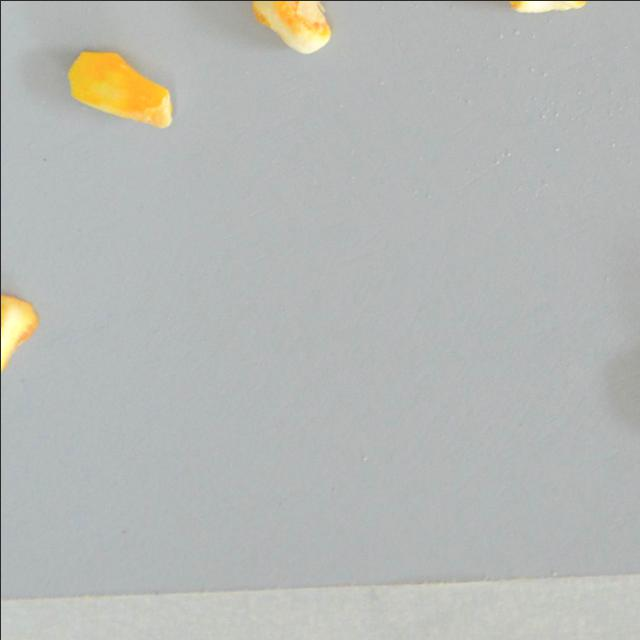estandar: (0, 290, 38, 379)
pelicula: (64, 48, 172, 131), (240, 0, 344, 62), (492, 0, 596, 16)
